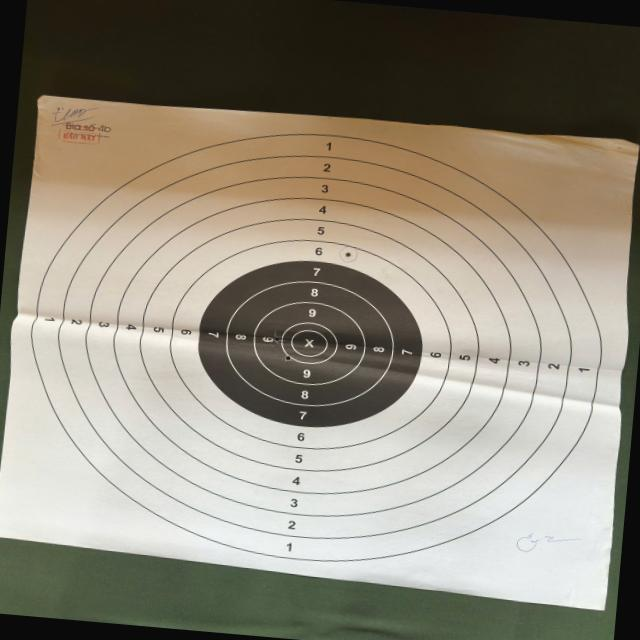bullet: (284, 354, 291, 361), (344, 250, 350, 258), (273, 336, 279, 342)
target: (0, 96, 638, 609)
